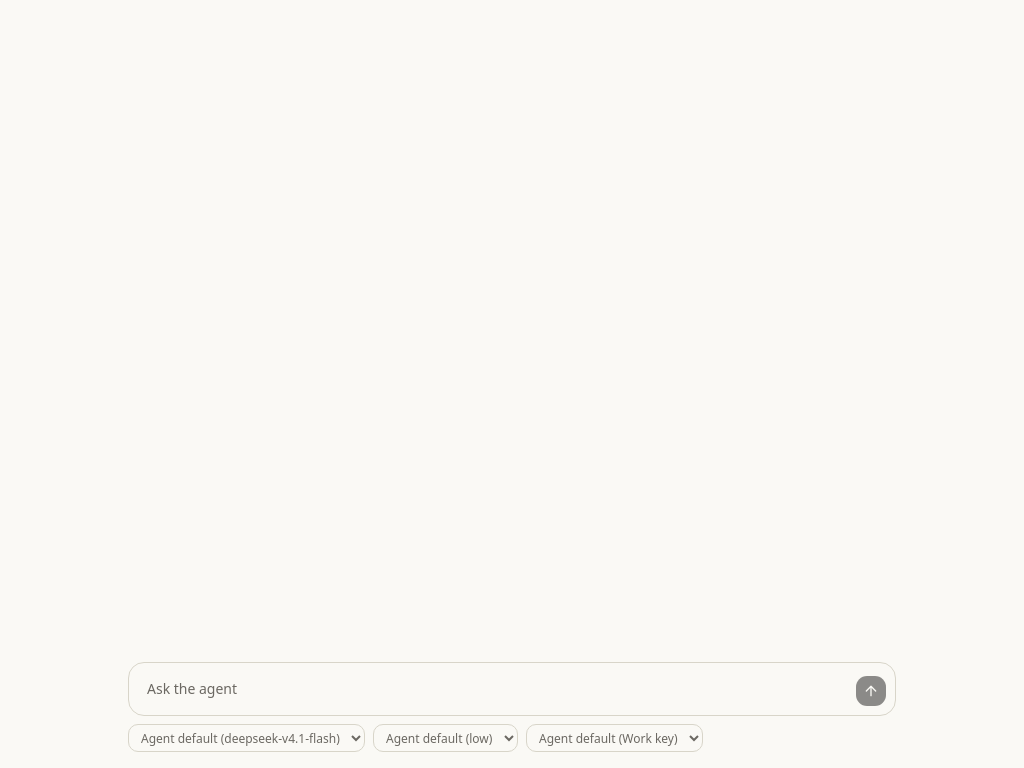
it: ChatPane › does not show the working indicator for a line that never reached a run
Type "still here" into the text box named "Message" at x=492, y=689, box left=137, top=671, right=847, bottom=707
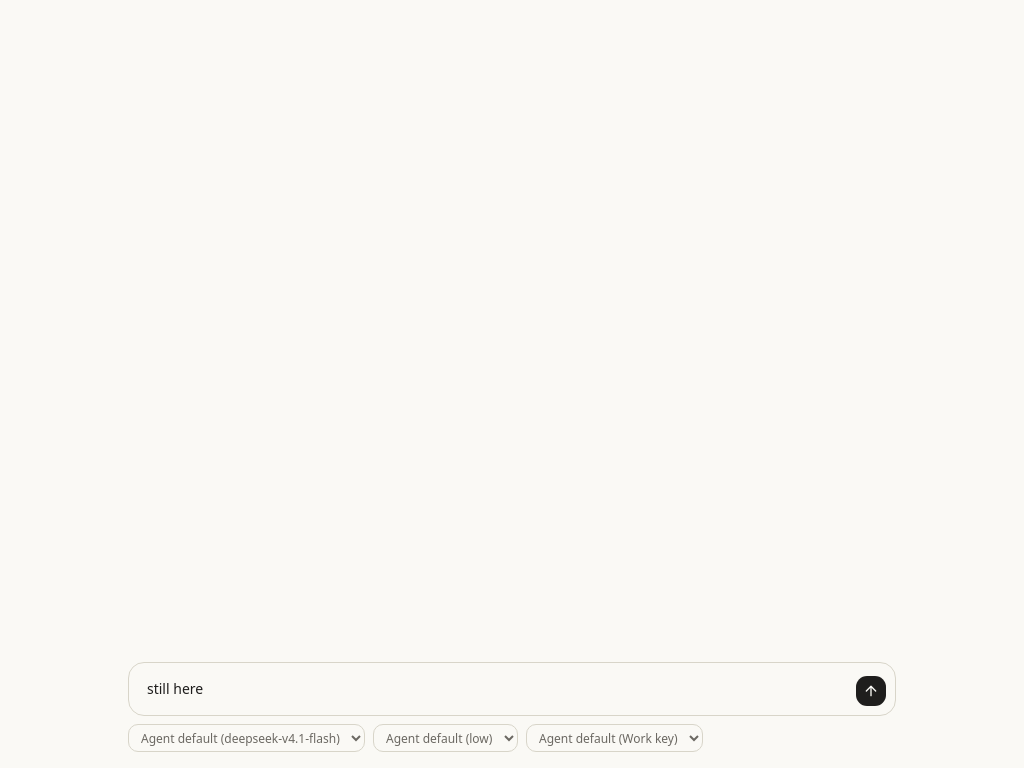
Click the button named "Send message" at x=871, y=691, box left=855, top=675, right=887, bottom=707
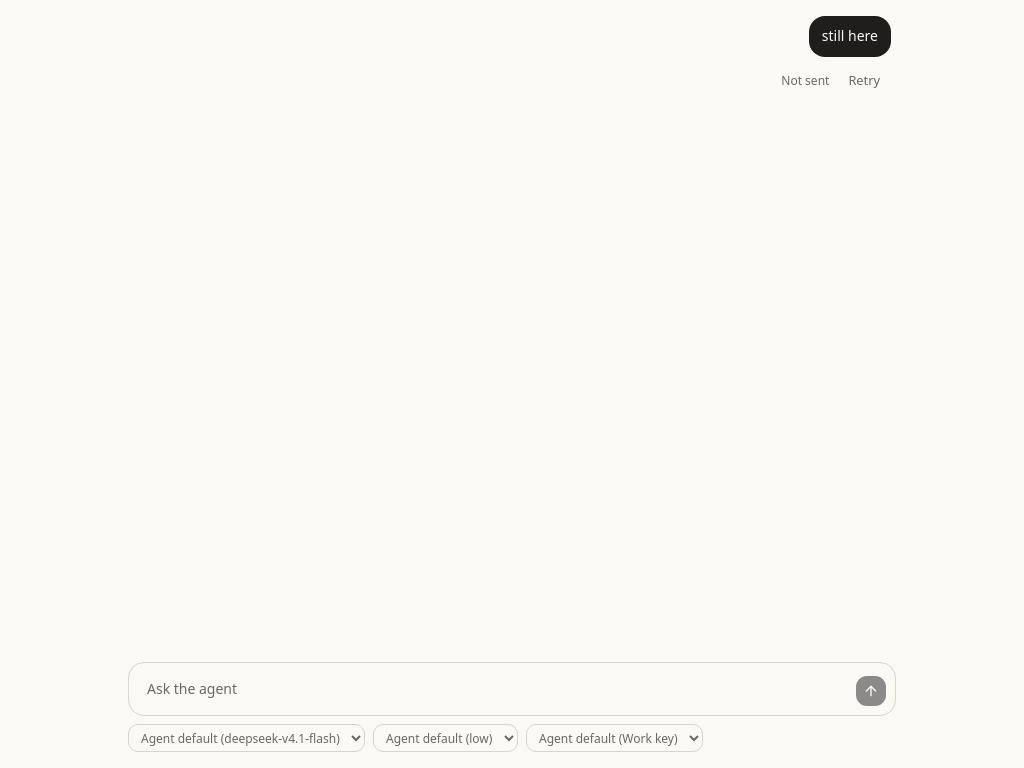
Now the text "Not sent" is shown, box left=781, top=73, right=829, bottom=89
